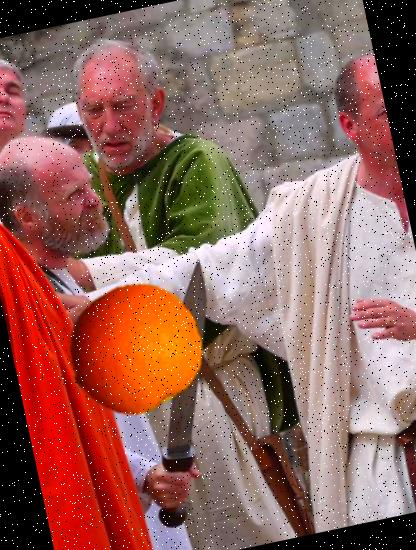Orange: (55, 270, 213, 428)
